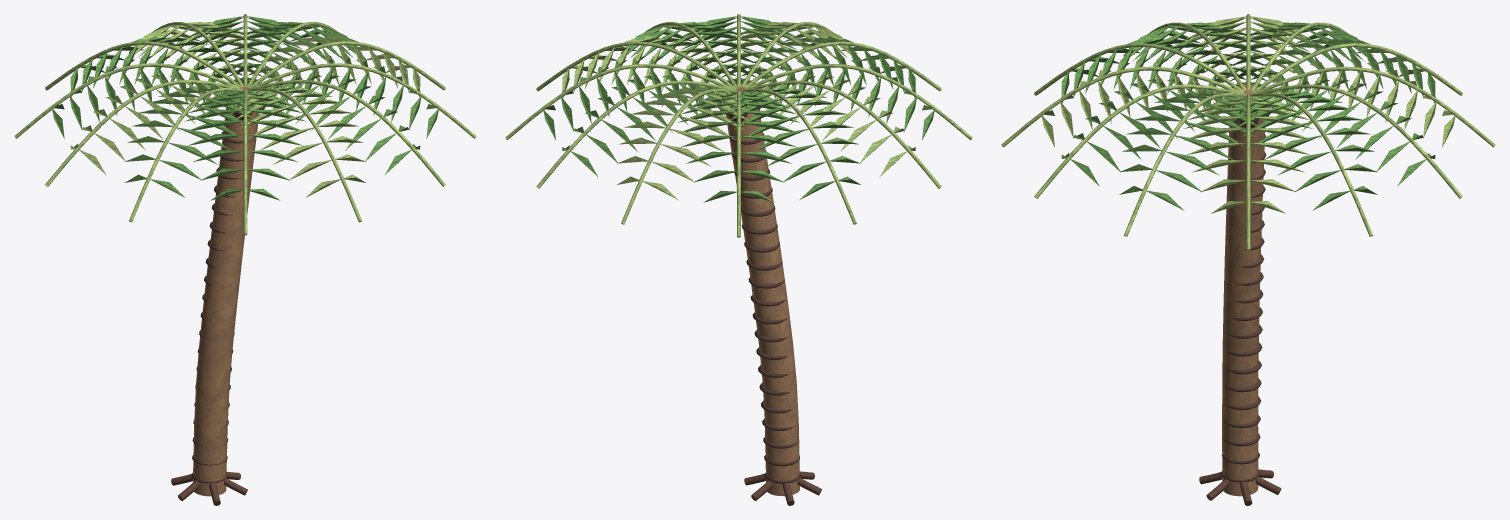
File: tree_4.glb
3 renders of one model, left to right at view 1: azimuth 30°, elevation 25°; view 2: azimuth 150°, elevation 25°; view 3: azimuth 270°, elevation 25°, orthographic. The views are drawn at different scales.
Parts seen in each view (by area): view 1: tree_4; view 2: tree_4; view 3: tree_4.
Boxes of the visible parts, left/top/right/bottom form: tree_4: left=14, top=14, right=476, bottom=505; tree_4: left=505, top=14, right=972, bottom=505; tree_4: left=1001, top=14, right=1495, bottom=505.
Size of the model in its own units: 6.03 by 5.97 by 6.03.
1 material, 1 textured.
